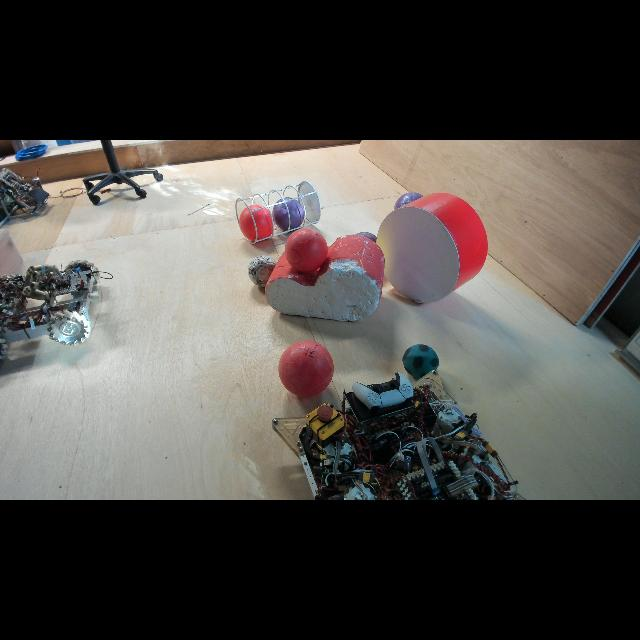P: (272, 198, 304, 232), (394, 192, 424, 210)
R: (278, 340, 334, 398), (284, 227, 328, 273), (238, 204, 274, 242)
S: (232, 178, 324, 246)
